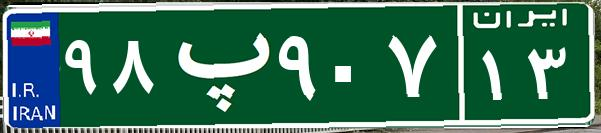0: (330, 28, 385, 110)
1: (475, 38, 525, 113)
3: (525, 38, 570, 115)
7: (385, 28, 445, 110)
8: (110, 28, 158, 105)
9: (273, 28, 330, 110), (57, 26, 110, 107)
پ: (158, 15, 273, 115)
